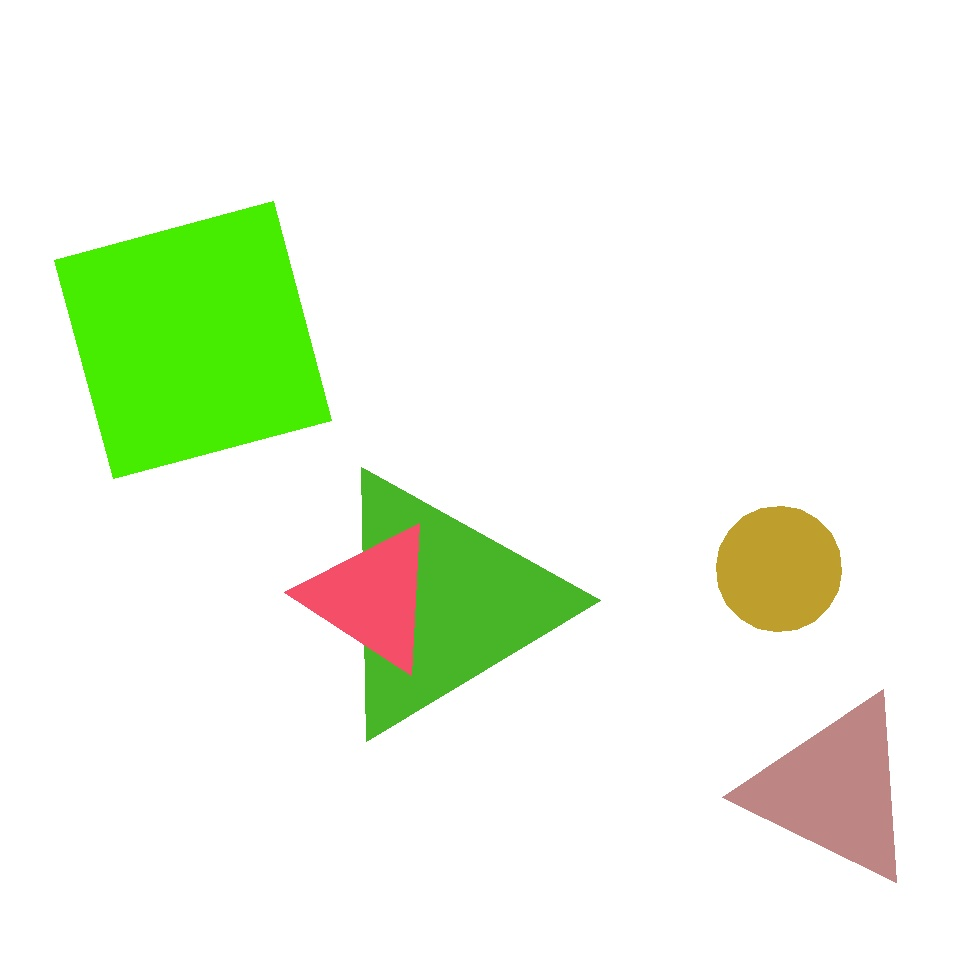circle: (206, 216, 480, 476), (324, 466, 562, 740), (747, 694, 921, 886), (304, 521, 440, 673)
square: (55, 202, 332, 478), (84, 239, 286, 442)
triangle: (74, 299, 248, 472), (716, 506, 841, 631)
